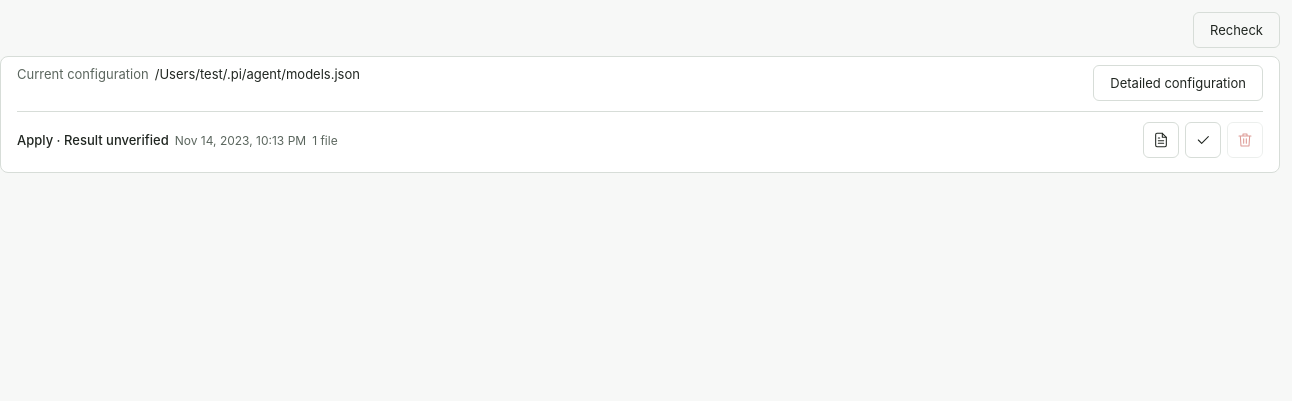
Scenario: inspection can be cancelled and repeated without repairing logs or restoring files
The image size is (1292, 401).
Click the button named "Inspect interrupted write".
click(1203, 140)  # box [1185,122,1221,158]
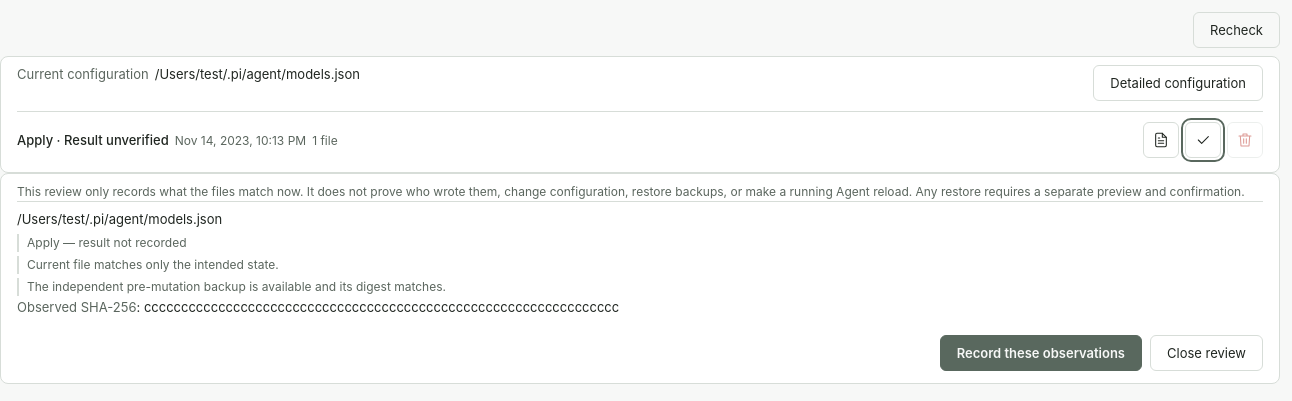
Expected: the button "Record these observations" is shown, [940,335,1142,371]
Expected: the text "does not prove who wrote them" is shown, [17,184,1245,199]
Click the button "Close review".
click(1206, 353)  # box [1150,335,1263,371]
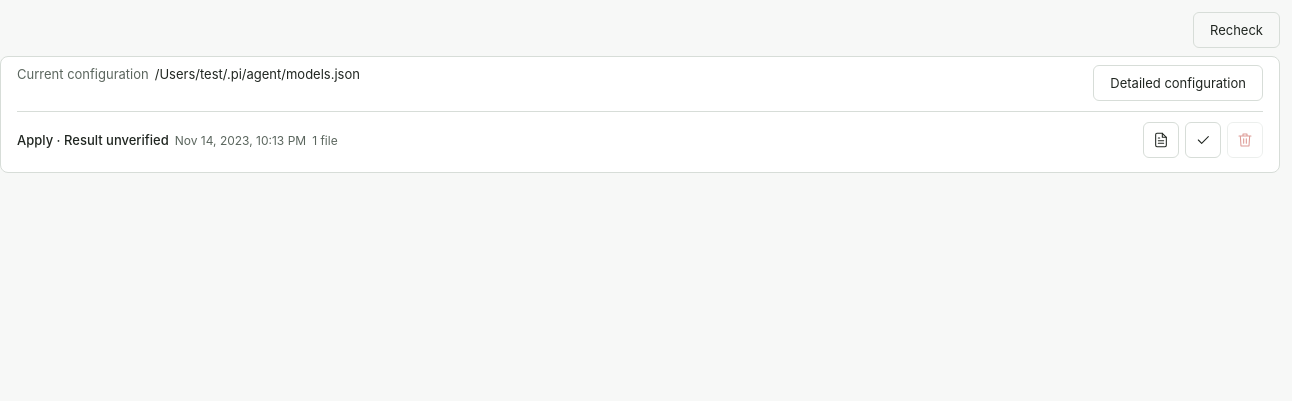
Expected: the button "Record these observations" is gone
Click the button named "Inspect interrupted write".
click(1203, 140)  # box [1185,122,1221,158]
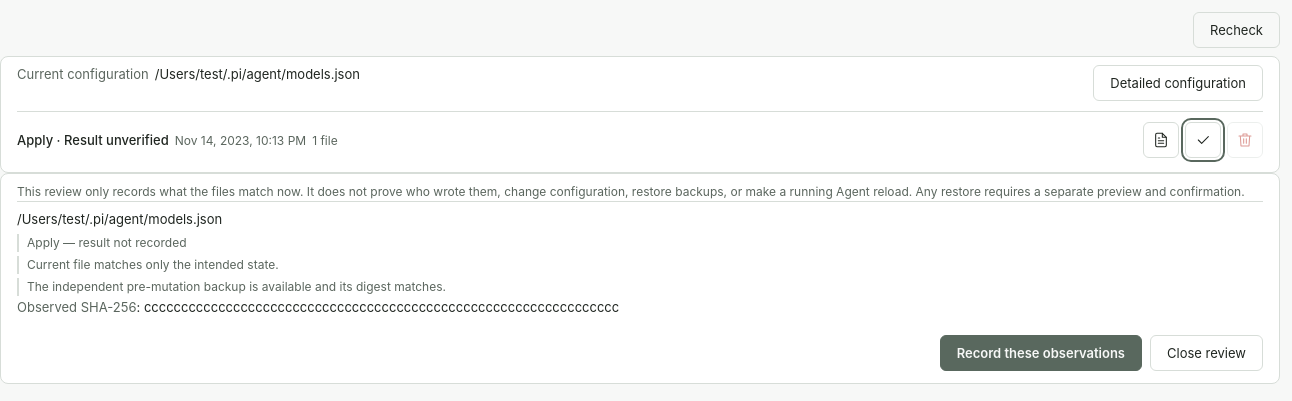
Expected: the button "Record these observations" is shown, [940,335,1142,371]
